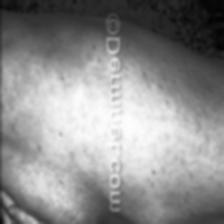Non-Cancerous Skin Condition: (1, 20, 101, 224), (131, 58, 224, 221)
